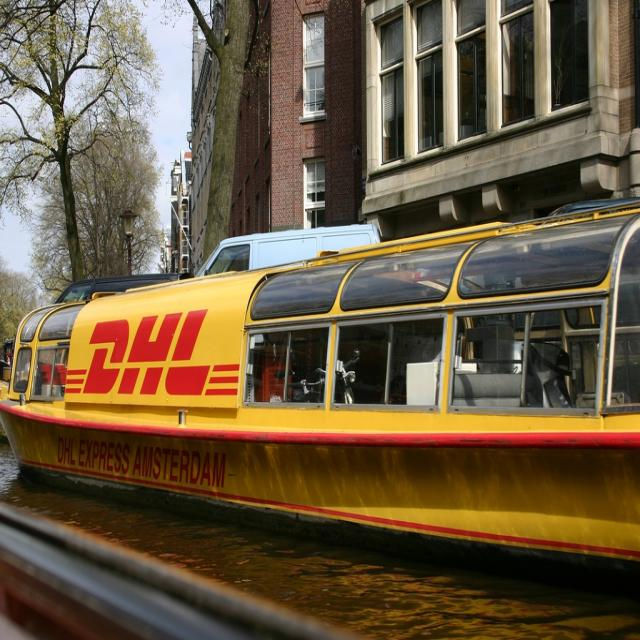dhl: (67, 303, 242, 401)
